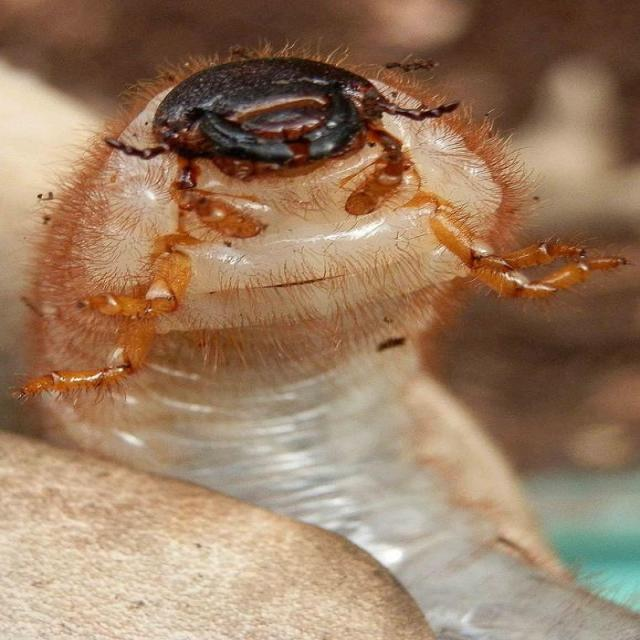grub: (39, 54, 640, 640)
